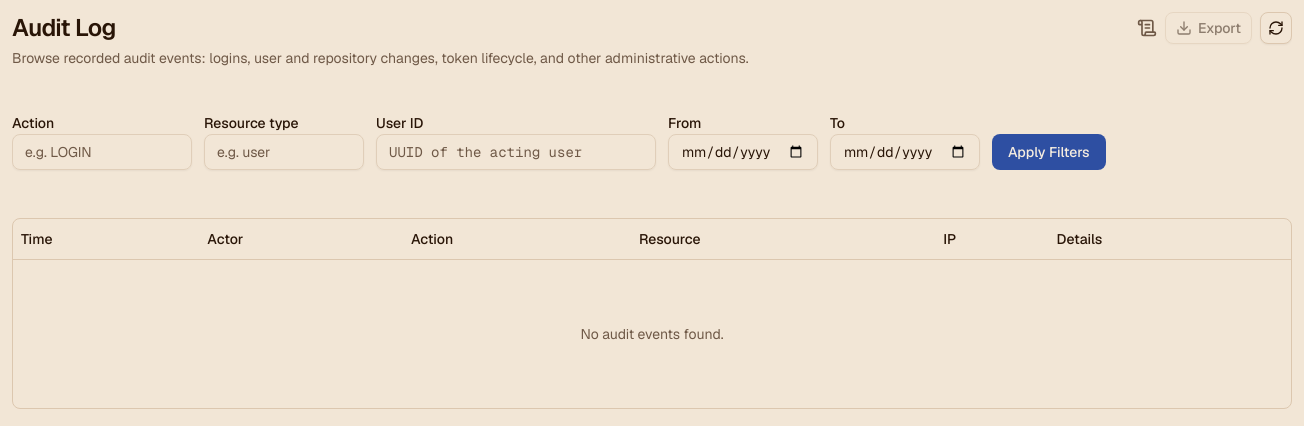
Test case: AuditLogPage › applies filters on Enter and clears them via Clear filters
# Fill every filter input, then apply with Enter from a text filter.
Type "LOGIN" into the field labelled "Action" at (102, 152), box [12,134,192,170]
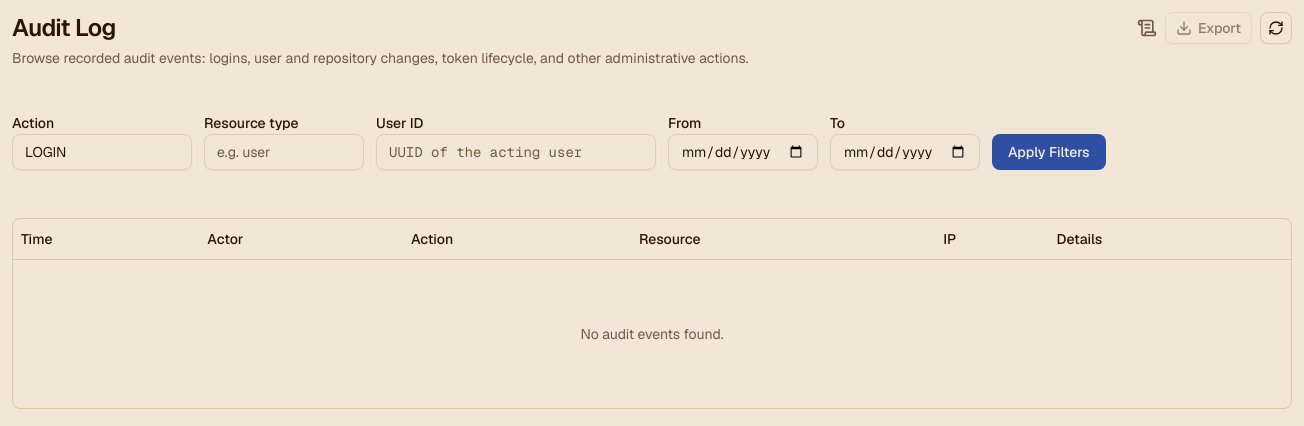
Type "user" into the field labelled "Resource type" at (284, 152), box [204,134,364,170]
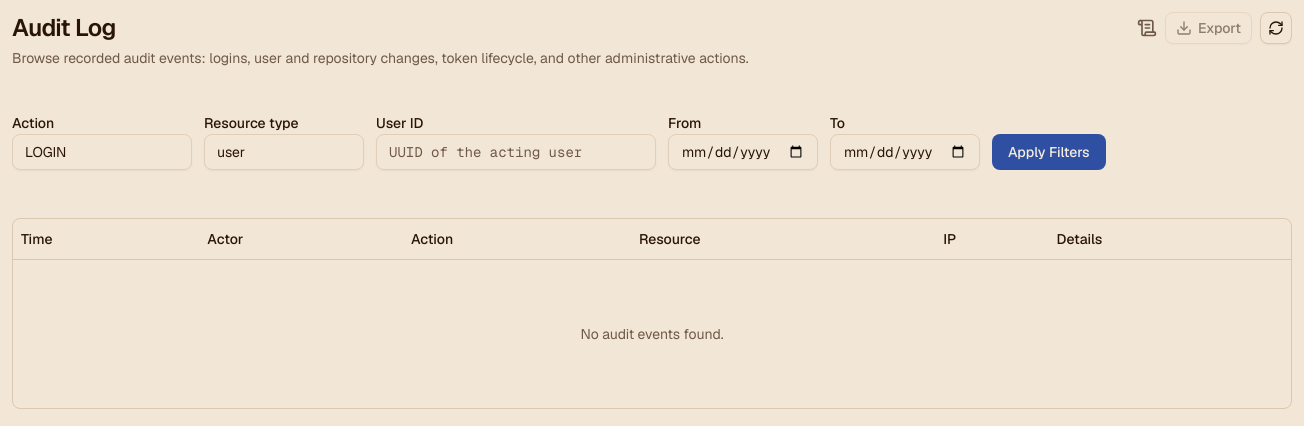
Type "2026-07-01" into the date field labelled "From" at (743, 152), box [668,134,818,170]
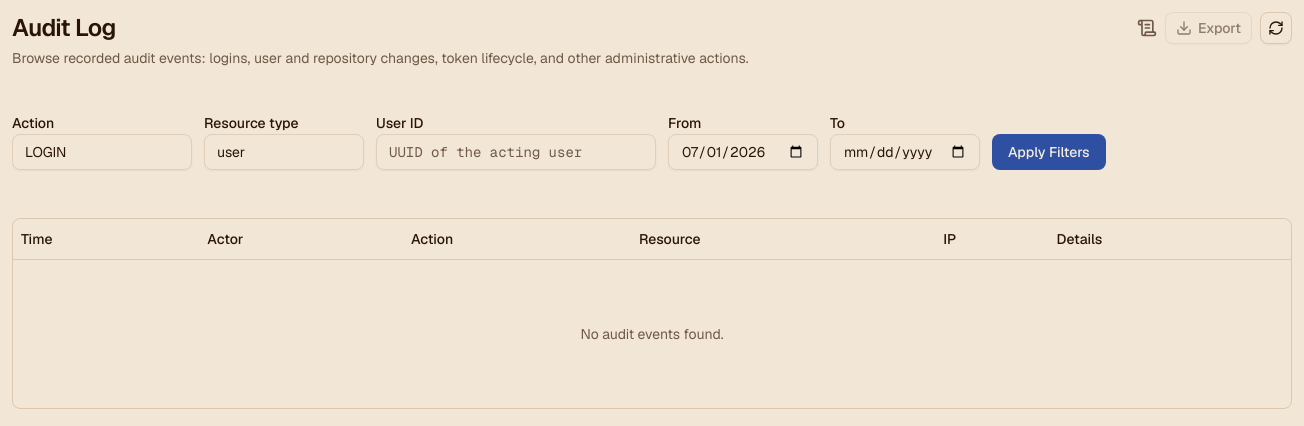
Type "2026-07-02" into the date field labelled "To" at (905, 152), box [830,134,980,170]
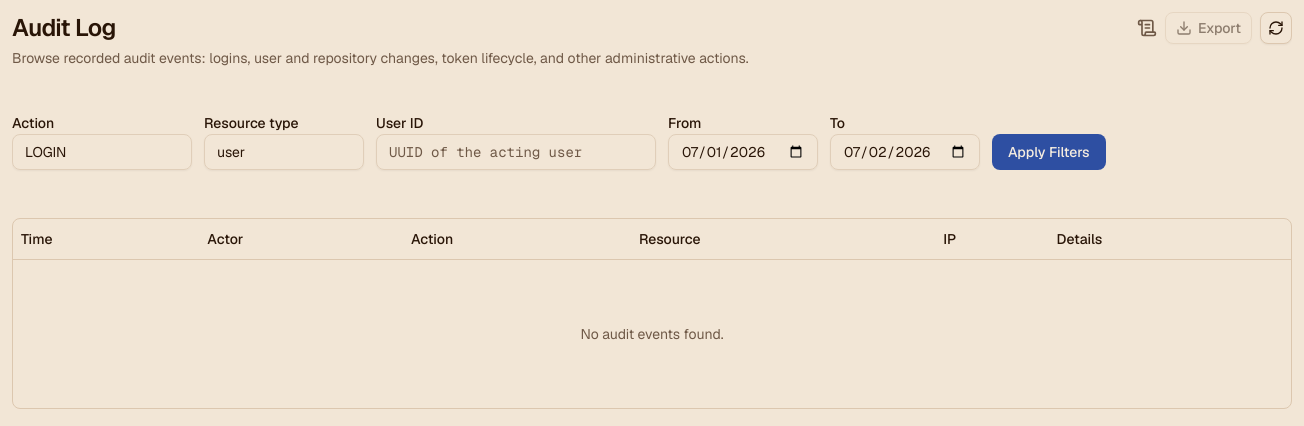
Press Enter in the field labelled "Resource type", box [204,134,364,170]
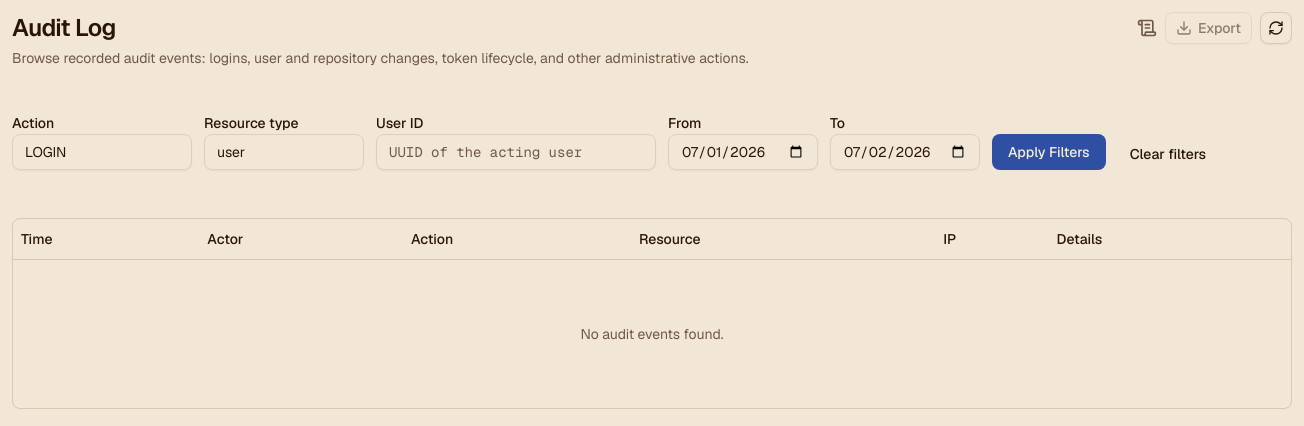
Press Enter in the field labelled "User ID", box [376,134,656,170]
Press Enter in the field labelled "Action", box [12,134,192,170]
Click the button "Clear filters" at (1168, 154), box [1118,138,1218,170]
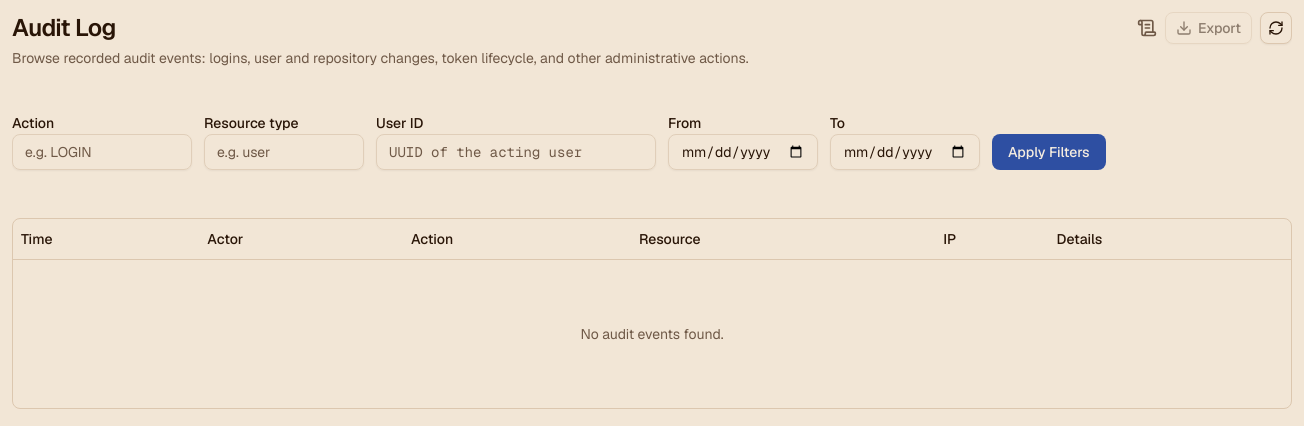
Expected: the button "Clear filters" is gone
Expected: the field labelled "Action" is empty, [12,134,192,170]
